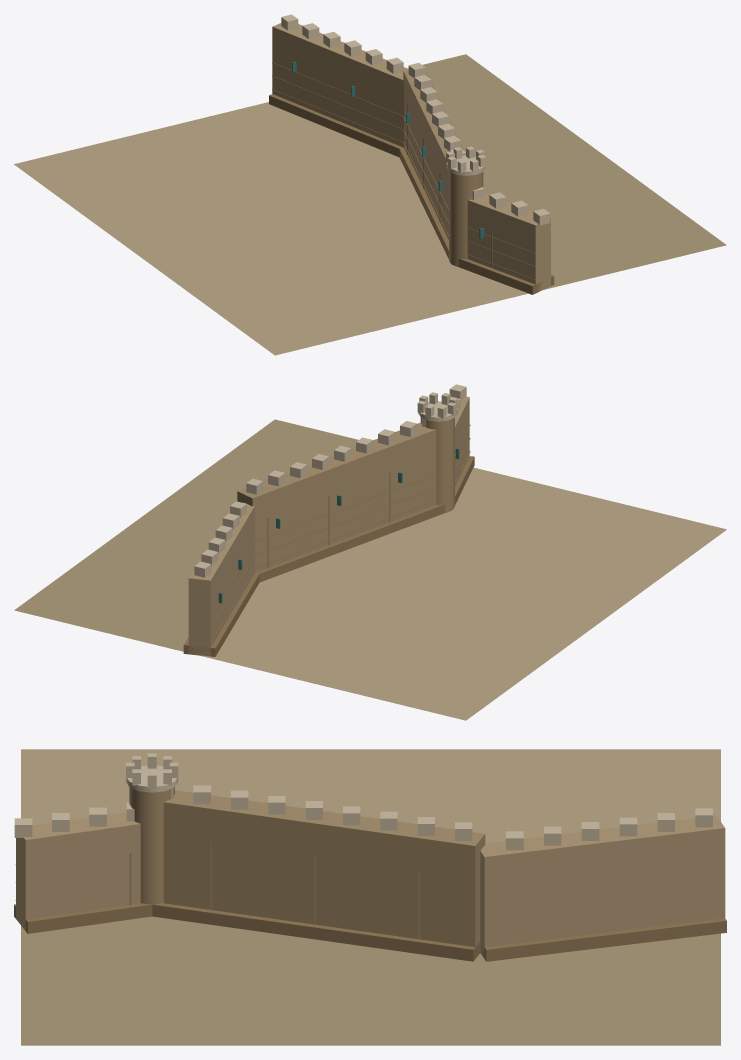
Rendered from city-boundary-1_0.glb.
3 renders of one model, top to bottom at view 1: azimuth 30°, elevation 25°; view 2: azimuth 150°, elevation 25°; view 3: azimuth 270°, elevation 25°, orthographic. The views are drawn at different scales.
Parts seen in each view (by area): view 1: city-boundary-1_0; view 2: city-boundary-1_0; view 3: city-boundary-1_0.
Boxes of the visible parts, x1=… form: city-boundary-1_0: x1=14, y1=14, x2=726, y2=355; city-boundary-1_0: x1=14, y1=384, x2=726, y2=720; city-boundary-1_0: x1=14, y1=749, x2=726, y2=1045.
Size of the model in its own units: 32 by 7.19 by 32.59.
